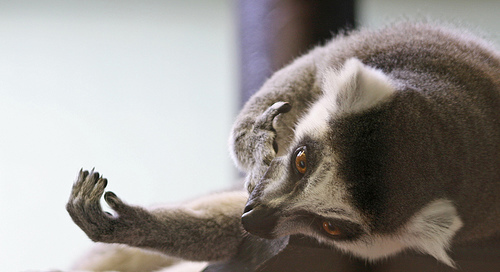cat: (66, 19, 499, 271)
